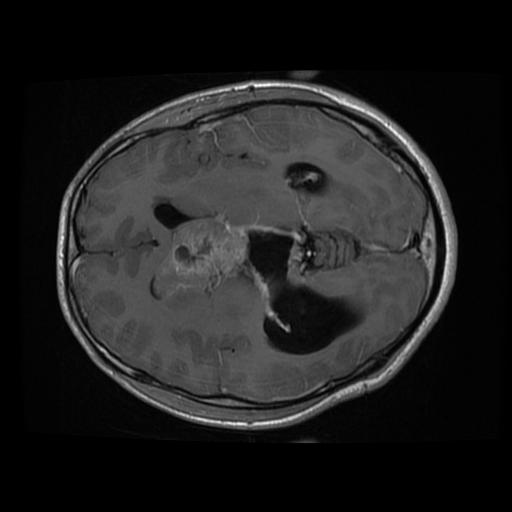glioma: (151, 214, 252, 300)
